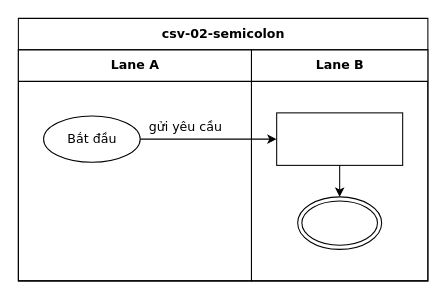
The diagram is 446 pixels wide and 299 high, and some of its shapes have lost their labels. Here are the shapes that lost their labels. From the top down, the centre of each, then its label:
point 339,138: Xử lý
point 339,222: Xong
